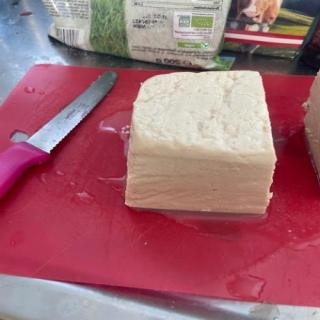Tahu: (124, 71, 278, 218)
